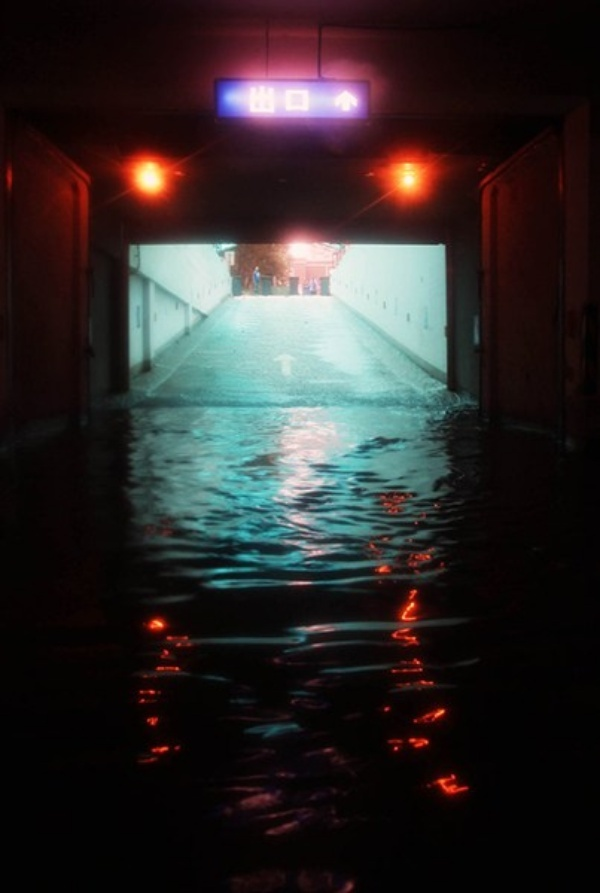text: (257, 85, 272, 115), (273, 85, 288, 115), (289, 85, 304, 115), (248, 85, 256, 115), (305, 85, 312, 115)
